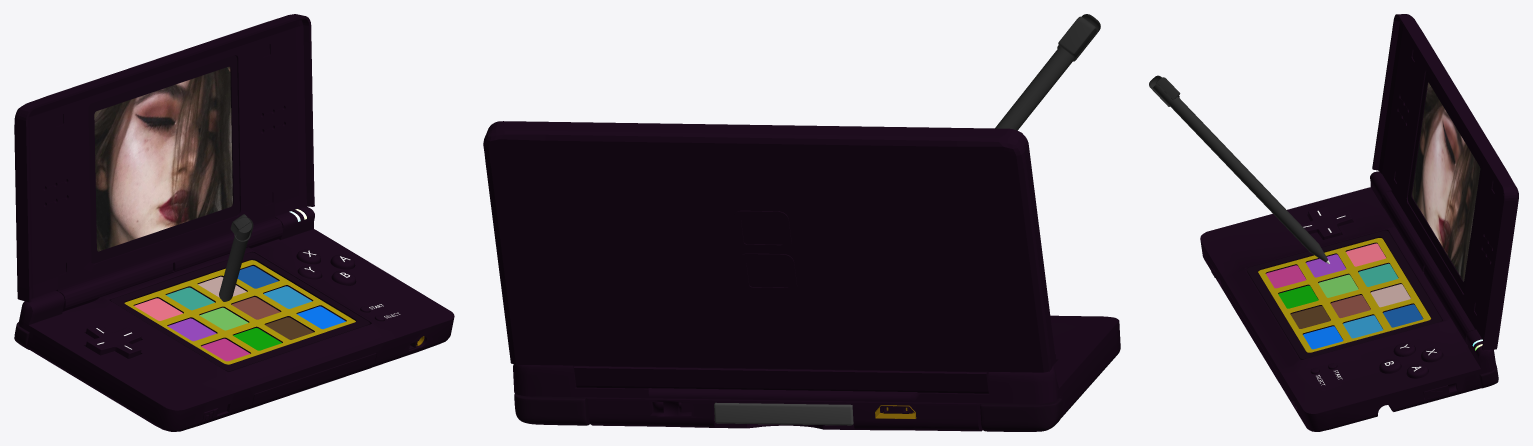
Rendered from beauty_ds.glb.
3 renders of one model, left to right at view 1: azimuth 30°, elevation 25°; view 2: azimuth 150°, elevation 25°; view 3: azimuth 270°, elevation 25°, orthographic. The views are drawn at different scales.
Parts seen in each view (by area): view 1: Cuerpo_2_Cube.025_1, Cuerpo_Cube.020_10, Screen_2_Cube.026_2, Cube.001_Cube_22, Screen_1_Cube.024_0, GPort_Cube.046_19, Pluma_Cylinder_15, Cruz_Cube.027_9; view 2: Cuerpo_2_Cube.025_1, Cuerpo_Cube.020_10, Pluma_Cylinder_15, Cartucho_Cube.047_18, L_Cube.031_16, R_Cube.029_17; view 3: Cuerpo_Cube.020_10, Cuerpo_2_Cube.025_1, Cube.001_Cube_22, Screen_2_Cube.026_2, Screen_1_Cube.024_0, Pluma_Cylinder_15, Cruz_Cube.027_9, GPort_Cube.046_19.
Boxes of the visible parts, left/top/right/bottom form: Cuerpo_2_Cube.025_1: left=14, top=14, right=314, bottom=311; Cuerpo_Cube.020_10: left=18, top=206, right=454, bottom=431; Screen_2_Cube.026_2: left=88, top=55, right=239, bottom=263; Cube.001_Cube_22: left=124, top=260, right=355, bottom=364; Screen_1_Cube.024_0: left=111, top=252, right=369, bottom=371; GPort_Cube.046_19: left=249, top=353, right=376, bottom=408; Pluma_Cylinder_15: left=219, top=214, right=253, bottom=301; Cruz_Cube.027_9: left=86, top=324, right=141, bottom=358; Cuerpo_2_Cube.025_1: left=483, top=121, right=1055, bottom=393; Cuerpo_Cube.020_10: left=513, top=315, right=1120, bottom=431; Pluma_Cylinder_15: left=995, top=14, right=1100, bottom=130; Cartucho_Cube.047_18: left=714, top=402, right=853, bottom=425; L_Cube.031_16: left=980, top=398, right=1062, bottom=431; R_Cube.029_17: left=514, top=394, right=590, bottom=425; Cuerpo_Cube.020_10: left=1200, top=171, right=1495, bottom=431; Cuerpo_2_Cube.025_1: left=1372, top=14, right=1518, bottom=350; Cube.001_Cube_22: left=1258, top=238, right=1430, bottom=352; Screen_2_Cube.026_2: left=1408, top=71, right=1482, bottom=293; Screen_1_Cube.024_0: left=1246, top=230, right=1441, bottom=359; Pluma_Cylinder_15: left=1149, top=75, right=1329, bottom=264; Cruz_Cube.027_9: left=1300, top=206, right=1352, bottom=239; GPort_Cube.046_19: left=1229, top=294, right=1278, bottom=382.
Bounding box in the file's own units: 5.44 × 3.76 × 4.87.
24 materials, 1 textured.
